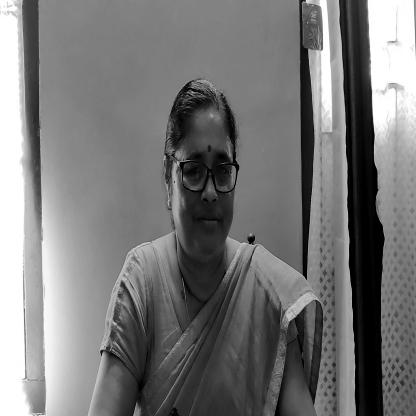Normal: (168, 76, 246, 262)
